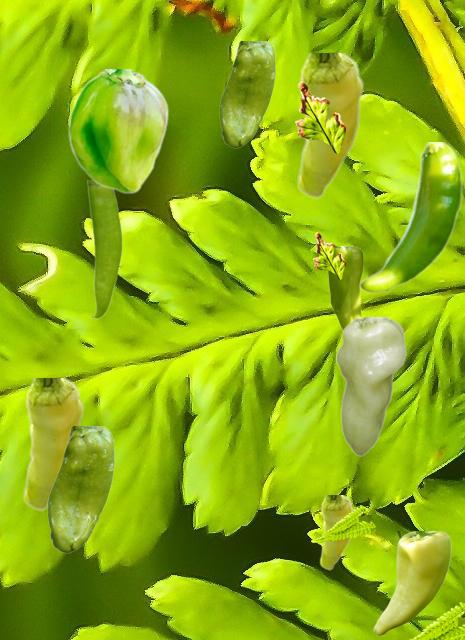green_chili: (358, 142, 462, 293), (68, 69, 168, 193), (296, 53, 363, 198), (335, 317, 405, 455), (47, 426, 113, 552), (22, 378, 83, 510), (373, 531, 450, 635), (219, 41, 274, 147), (86, 180, 121, 318), (327, 246, 362, 329), (319, 495, 353, 569)
